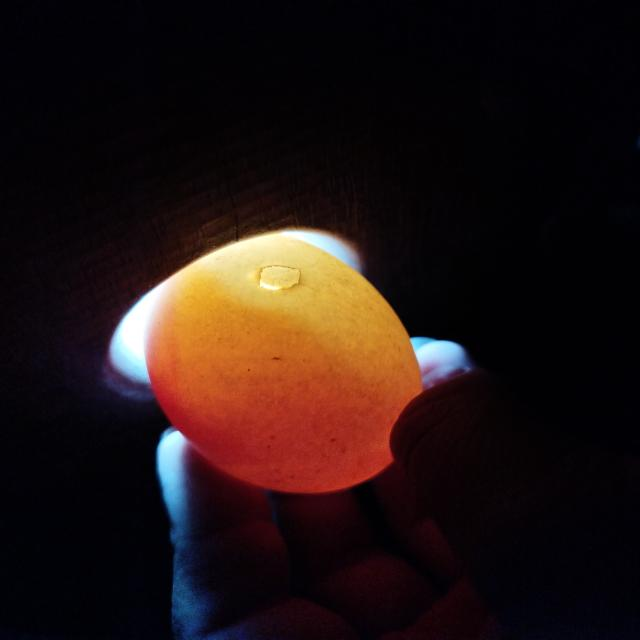Gema Quebrada: (151, 379, 394, 493)
Rachadura: (258, 265, 302, 291)
